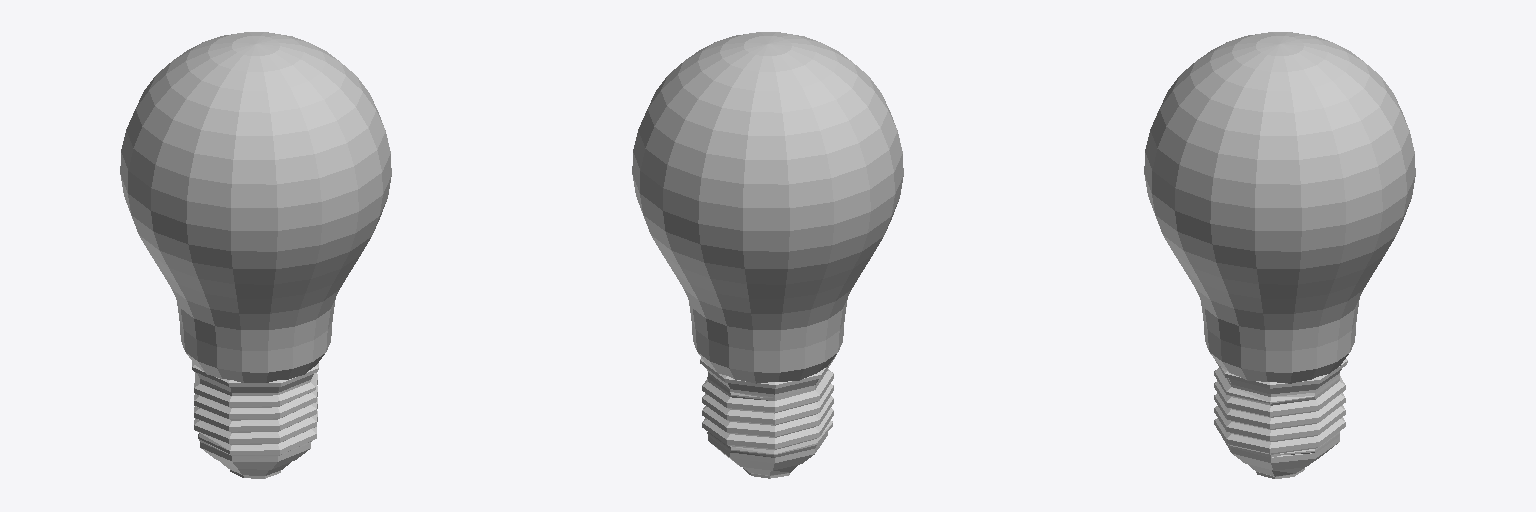
File: light_bulb.obj
3 renders of one model, left to right at view 1: azimuth 30°, elevation 25°; view 2: azimuth 150°, elevation 25°; view 3: azimuth 270°, elevation 25°, orthographic.
Visible parts, largest first — view 1: Light; view 2: Light; view 3: Light.
Boxes of the visible parts, x1=… form: Light: x1=120, y1=32, x2=391, y2=478; Light: x1=632, y1=32, x2=903, y2=478; Light: x1=1144, y1=32, x2=1415, y2=478.
Bounding box in the file's own units: 22.17 × 38.69 × 22.46.